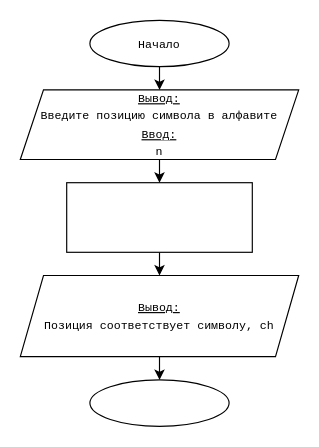
Some shapes in this 319 by 447 pixel diagram are drawn without their labels. The centre of each missing label's shape, as x and y in pixels:
"BIAS = 96 ch = chr(BIAS + n)" belongs at pixel 159 217.
"Конец" belongs at pixel 159 402.
